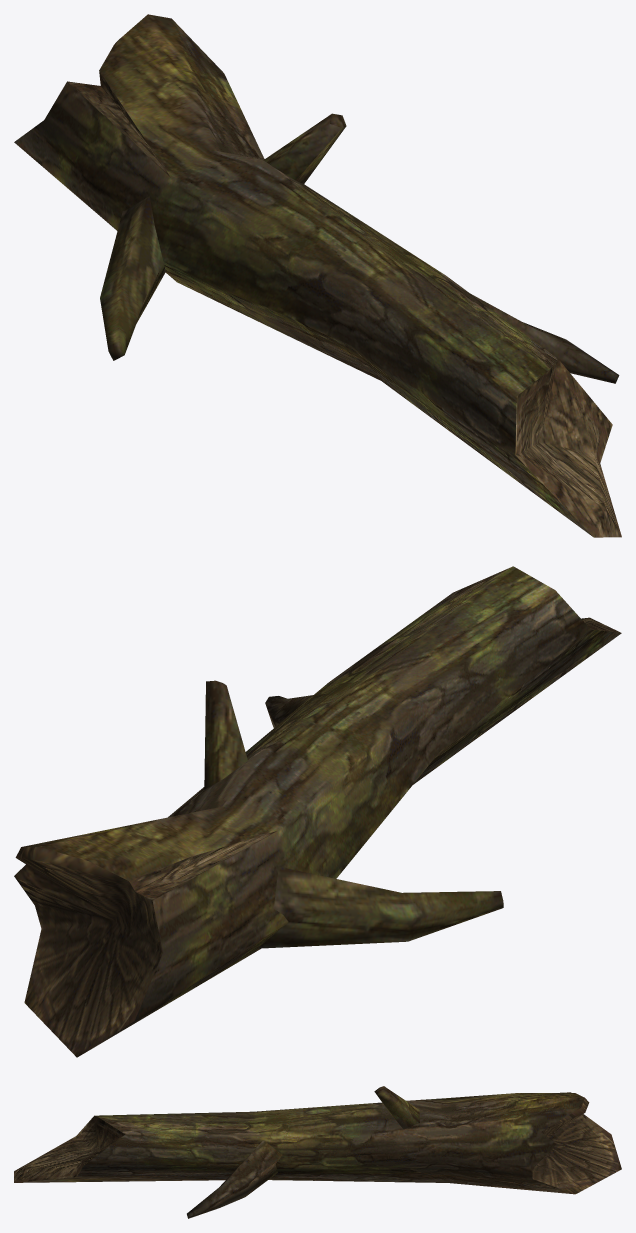
The model's file is 10104_Tree_K01.FBX.
The picture shows the model from 3 angles, top to bottom: view 1: azimuth 30°, elevation 25°; view 2: azimuth 150°, elevation 25°; view 3: azimuth 270°, elevation 25°; orthographic projection. The views are drawn at different scales.
Visible parts, largest first — view 1: Plant05_g; view 2: Plant05_g; view 3: Plant05_g.
Boxes of the visible parts, x1,y1,x2,y2 form: Plant05_g: (14, 14, 621, 537); Plant05_g: (14, 566, 621, 1057); Plant05_g: (14, 1086, 621, 1218).
Bounding box in the file's own units: 168 × 80.14 × 419.
